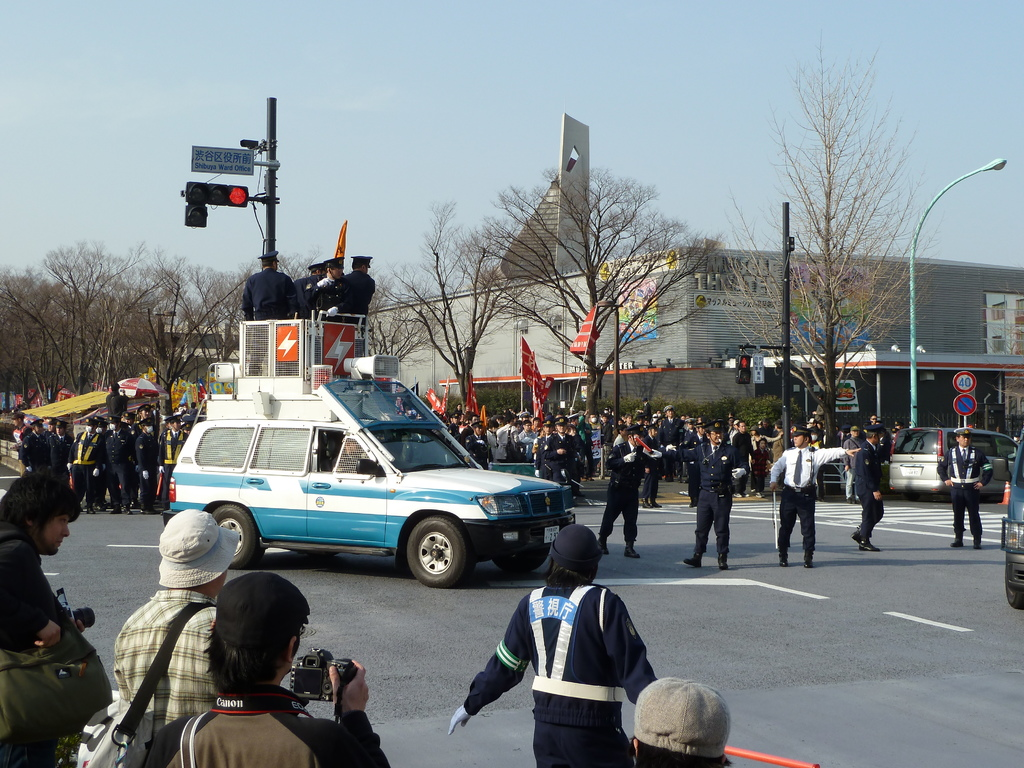Car: (159, 399, 572, 599), (885, 424, 1016, 497)
